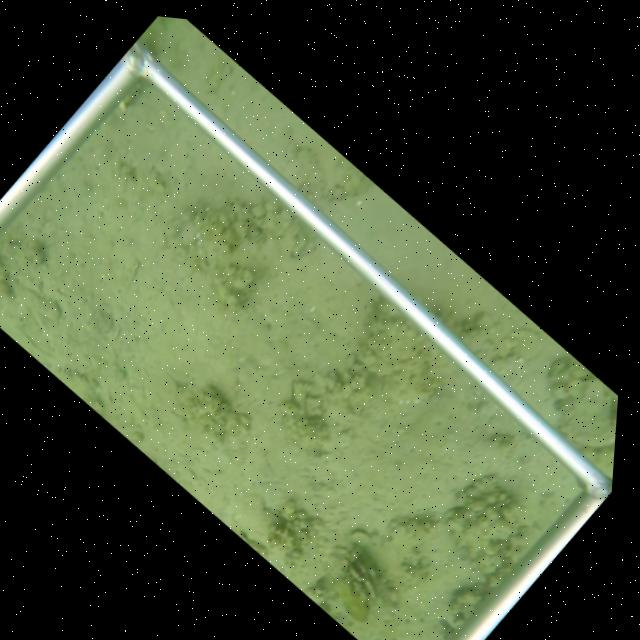Oyster-Indeterminate: (560, 376, 616, 448)
